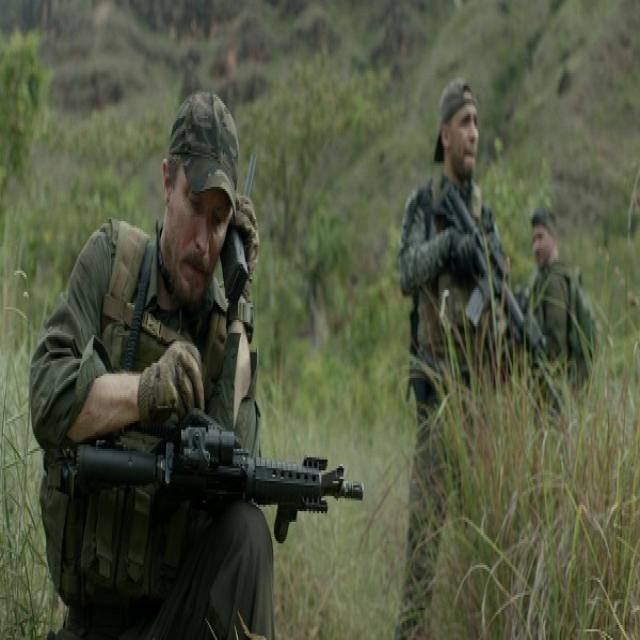rifle: (73, 412, 367, 544), (439, 180, 569, 421)
